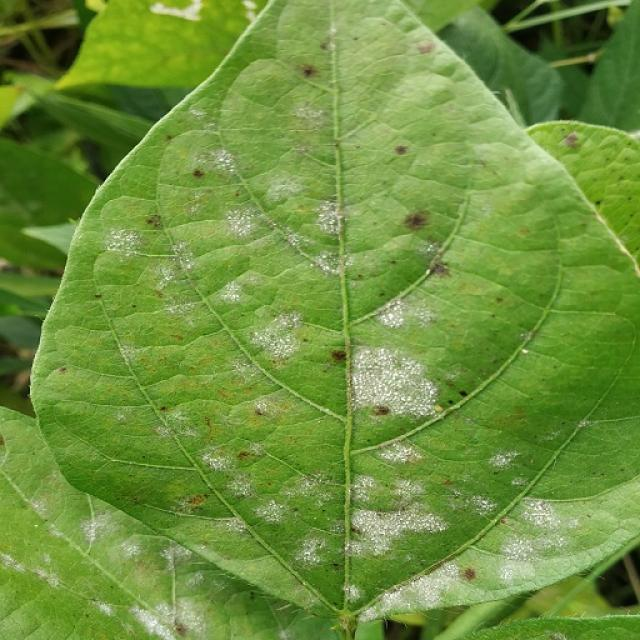Blackgram: (0, 0, 639, 639)
Powdery_Mildew: (265, 323, 580, 612), (363, 498, 594, 621), (278, 465, 478, 578), (131, 227, 279, 339), (4, 492, 122, 595), (244, 189, 361, 285), (335, 339, 453, 427), (191, 434, 288, 507), (89, 522, 175, 599), (351, 346, 440, 419), (369, 562, 482, 616), (350, 498, 448, 555), (496, 519, 557, 568), (250, 310, 304, 357), (130, 603, 195, 639), (378, 291, 438, 329), (17, 556, 72, 595), (441, 487, 503, 521), (284, 474, 336, 512), (155, 248, 196, 293), (515, 498, 563, 533), (156, 412, 203, 445), (79, 509, 116, 548), (494, 553, 539, 583), (376, 439, 427, 464), (315, 201, 349, 238), (104, 226, 144, 257), (311, 250, 351, 280), (150, 1, 206, 22), (292, 100, 327, 132), (163, 294, 204, 321), (295, 535, 330, 566), (225, 207, 260, 237), (2, 549, 36, 579), (268, 175, 303, 204), (249, 397, 288, 423), (204, 146, 240, 174), (214, 280, 248, 308), (253, 498, 289, 524), (158, 541, 194, 567), (224, 475, 257, 500), (202, 448, 235, 472), (415, 239, 444, 264), (30, 492, 55, 518), (118, 344, 147, 366), (352, 474, 380, 496), (488, 450, 519, 469), (537, 425, 568, 444), (39, 567, 63, 589), (95, 600, 115, 617), (344, 584, 362, 602), (575, 418, 593, 431), (329, 24, 338, 38)
